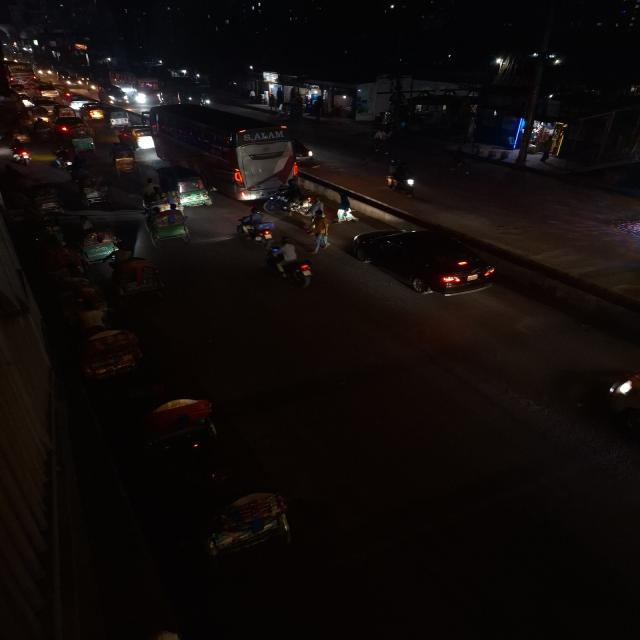bus: (147, 103, 300, 196)
car: (350, 225, 502, 300), (120, 123, 155, 149), (48, 115, 88, 136), (98, 84, 130, 104), (32, 84, 61, 100)
cng: (160, 166, 212, 208), (69, 128, 98, 152), (106, 108, 130, 128), (82, 102, 106, 121)
motorcycle: (267, 243, 316, 287), (234, 210, 278, 247), (265, 184, 309, 219), (383, 159, 420, 197), (7, 141, 34, 165), (51, 146, 77, 170)
pedestrian: (306, 212, 334, 252), (332, 188, 359, 224)
rickshaw: (176, 484, 304, 562), (115, 383, 225, 461), (59, 306, 150, 386), (42, 222, 123, 270), (112, 255, 172, 305), (142, 205, 196, 247), (59, 275, 112, 317), (74, 175, 112, 208), (110, 146, 139, 178)
